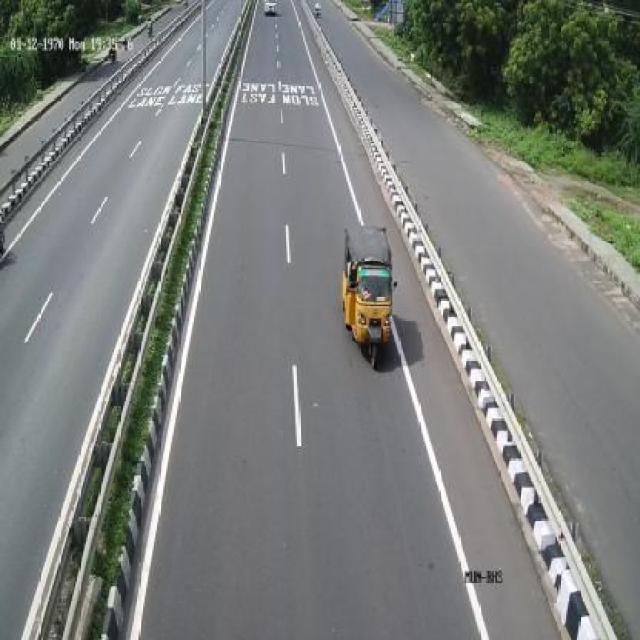car: (343, 224, 402, 358)
